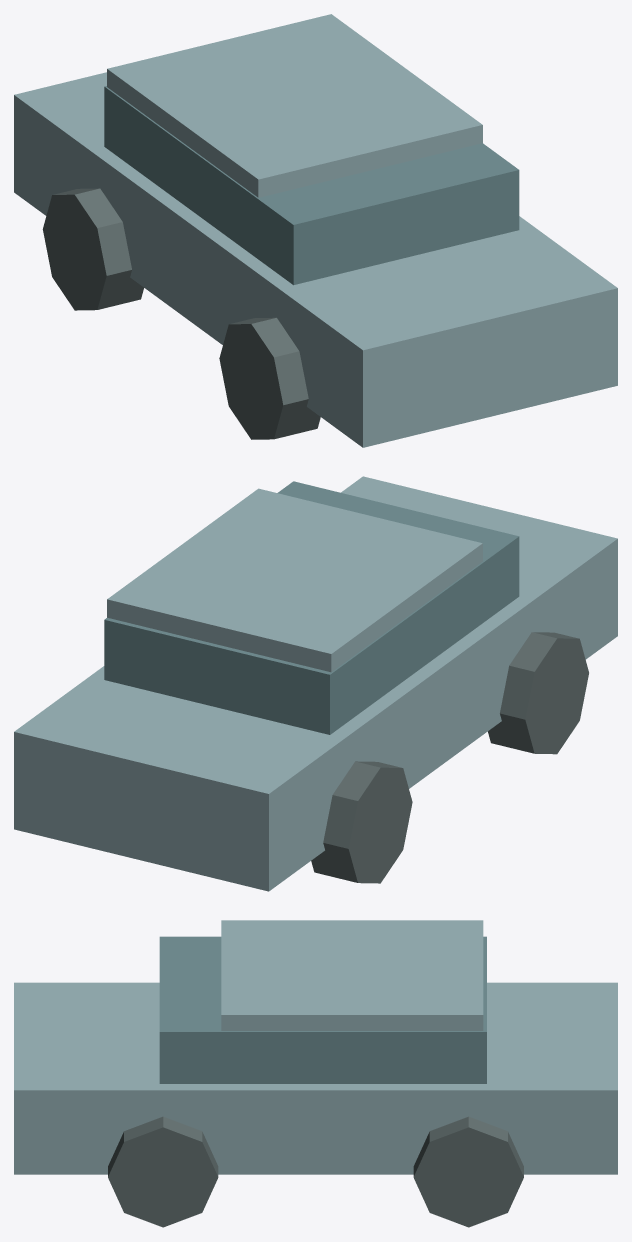
3 views of the same model, one above another, from view 1: azimuth 30°, elevation 25°; view 2: azimuth 150°, elevation 25°; view 3: azimuth 270°, elevation 25° (orthographic). The views are drawn at different scales.
Size of the model in its own units: 2.1 by 1.48 by 4.15.
